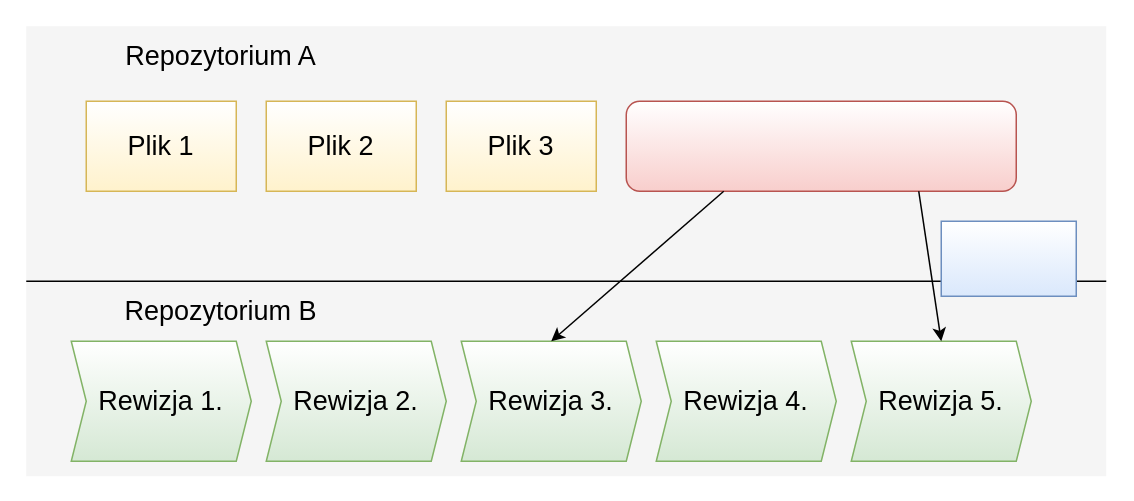
The diagram is 1134 pixels wide and 501 high, and some of its shapes have lost their labels. The shapes that lost their labels are listed below. From the top down, each one's centre as x and y in pixels, then its label:
(820,145): Submoduł (wskazuje na rewizję 3.)
(1008,258): Flaga remote
